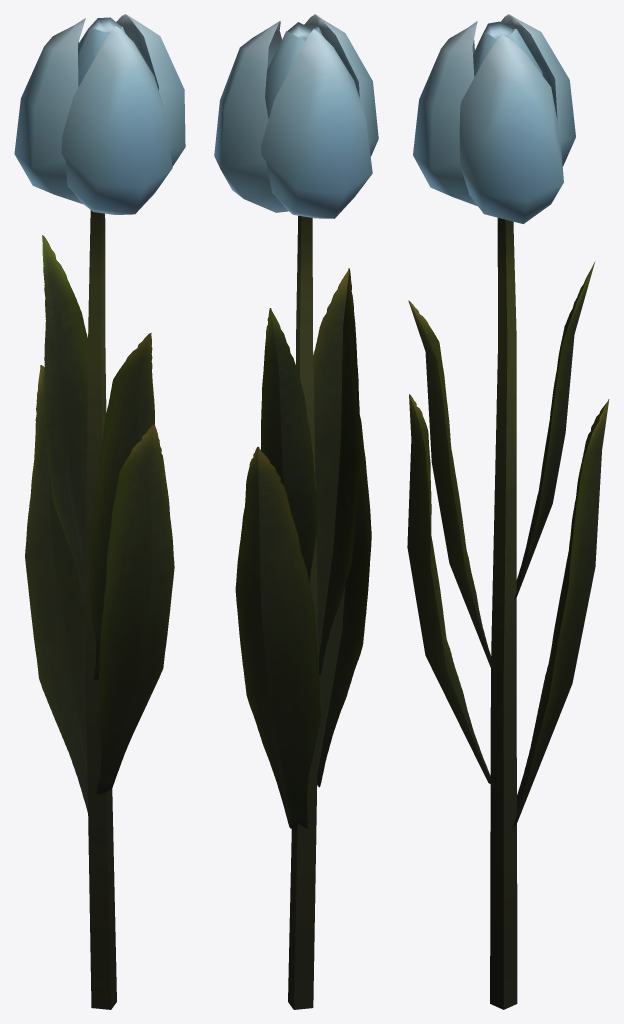
Rendered from Flower_A04.fbx.
3 renders of one model, left to right at view 1: azimuth 30°, elevation 25°; view 2: azimuth 150°, elevation 25°; view 3: azimuth 270°, elevation 25°, orthographic.
Visible parts, largest first — view 1: Flower_A04; view 2: Flower_A04; view 3: Flower_A04.
Boxes of the visible parts, left/top/right/bottom form: Flower_A04: left=14, top=14, right=185, bottom=1009; Flower_A04: left=214, top=14, right=378, bottom=1009; Flower_A04: left=407, top=14, right=609, bottom=1009.
Bounding box in the file's own units: 5.97 × 38.26 × 7.15.
